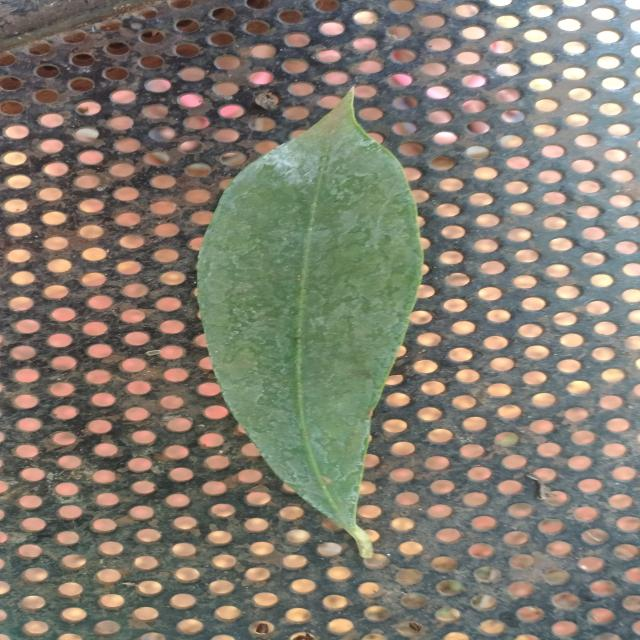nerale: (198, 92, 422, 558)
